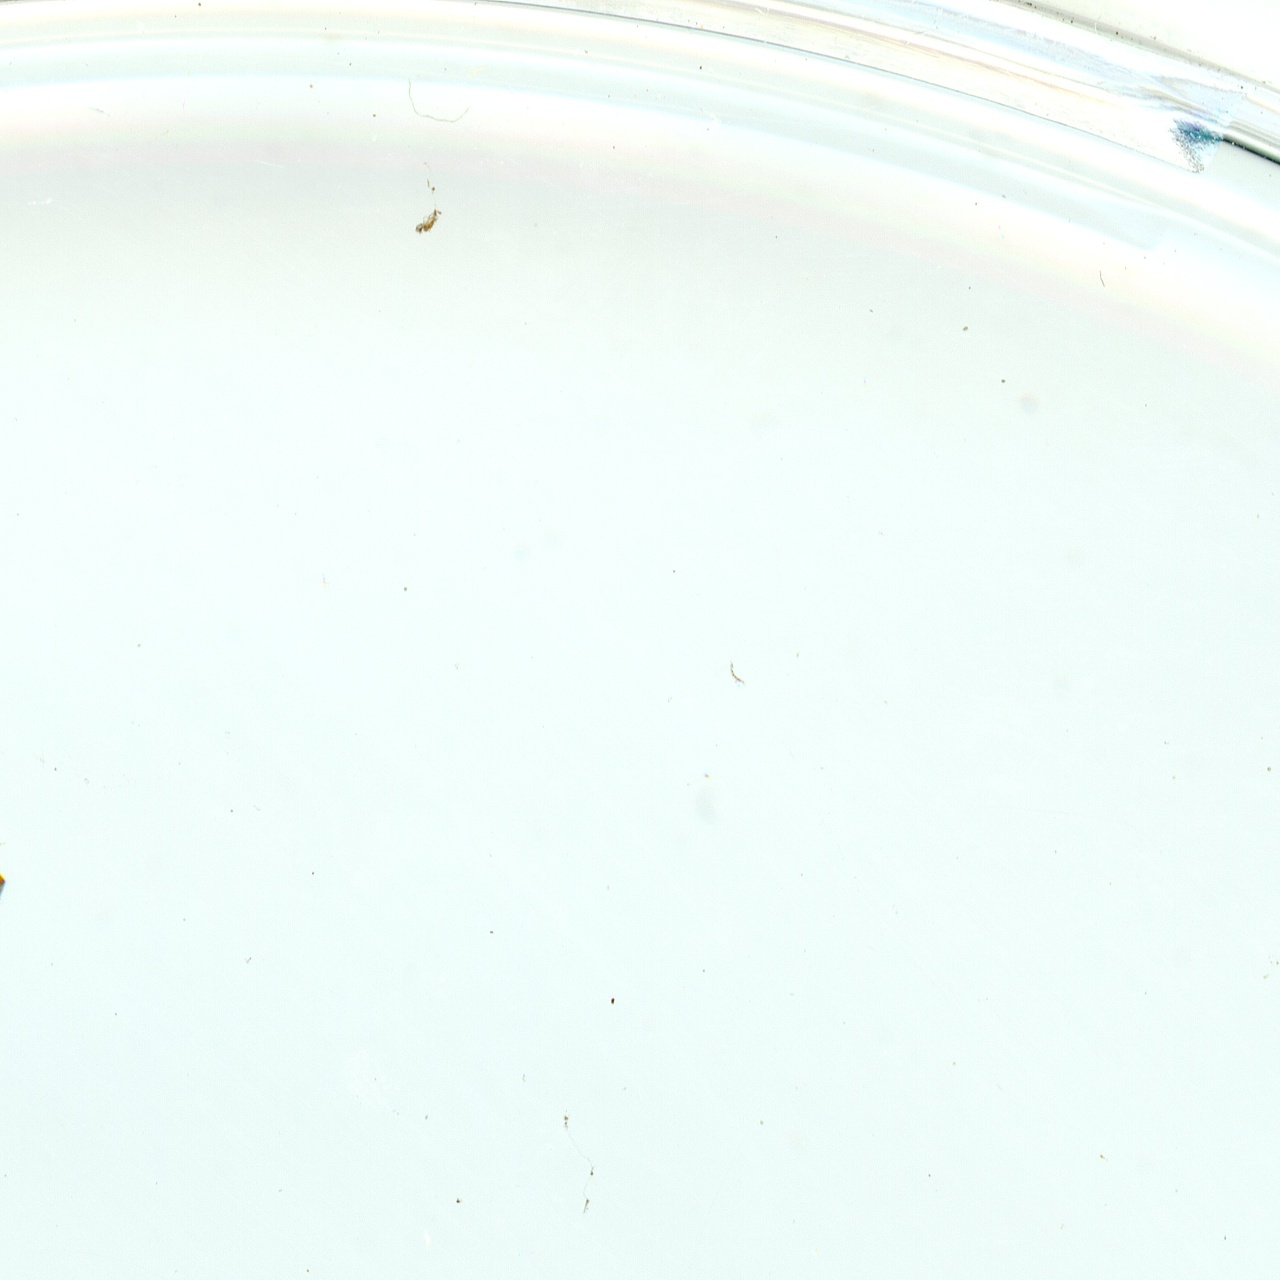arthropod: (0, 826, 22, 1047)
